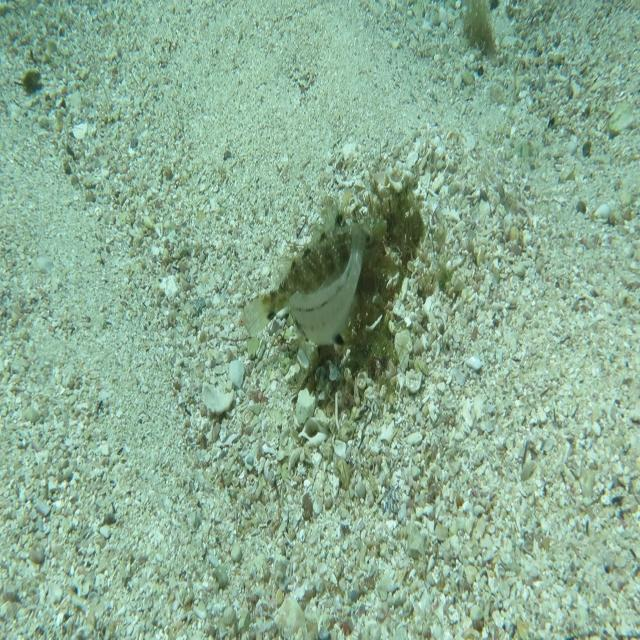FAN: (239, 203, 388, 339)
core_nest: (366, 191, 413, 247)
female: (289, 220, 367, 348)
nest: (278, 149, 438, 415)
